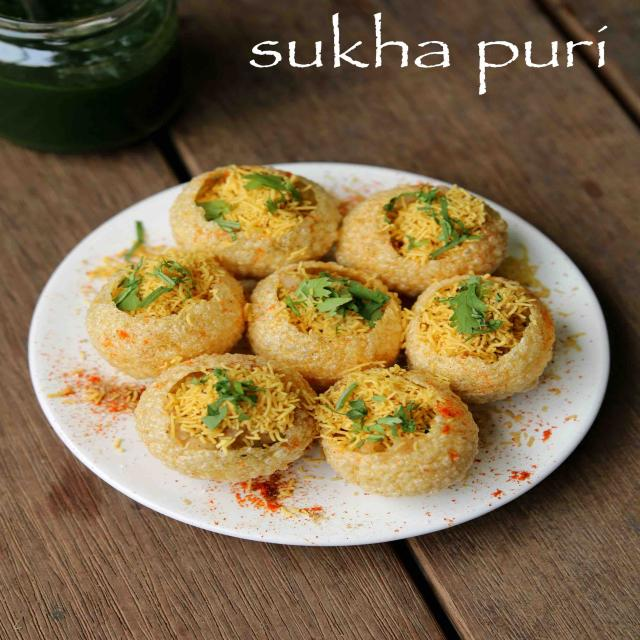paani_puri: (100, 157, 544, 492)
